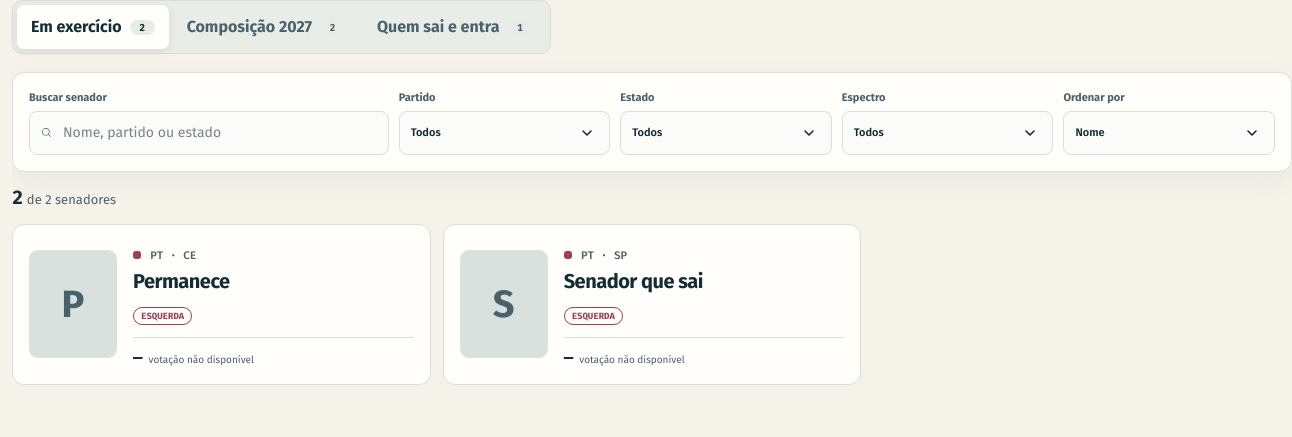
Scenario: SenatorDirectory › shows who leaves and enters the 2027 composition
The width and height of the screenshot is (1292, 437).
Click the tab "Quem sai e entra 1" at (455, 27), box [363,5,546,49]
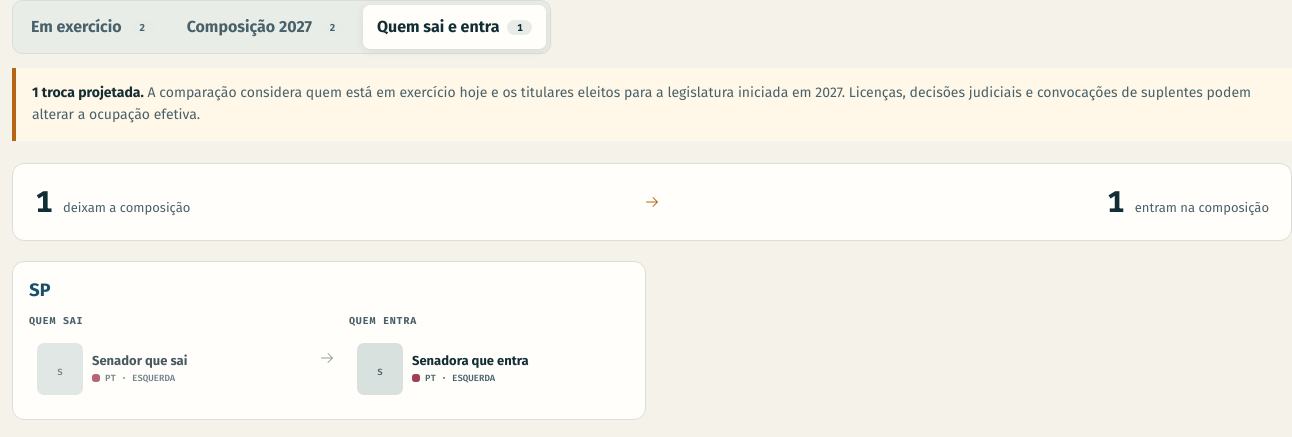
Expected: the text "Senadora que entra" is shown, [412,353,529,368]
Expected: the link "Permanece" is gone
Expected: the text "1 troca projetada." is shown, [32,84,144,101]
